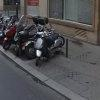Motorcycle: (5, 18, 69, 73)
